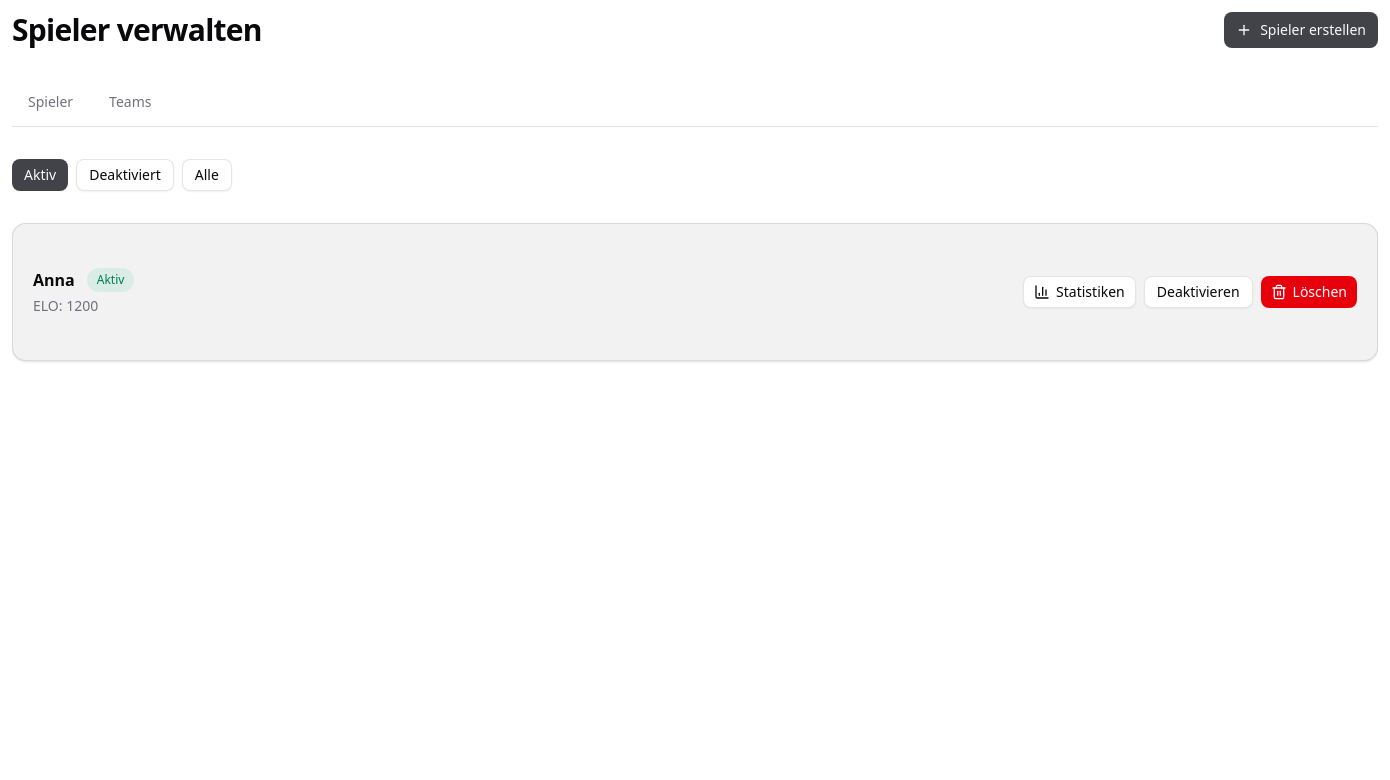
Test: PlayersPage mutations › reports mutation success separately when list refresh fails
Expected: the heading "Anna" is shown, [33, 268, 75, 292]
Click the button "Deaktivieren": coordinates (1198, 292) [1144, 276, 1253, 308]
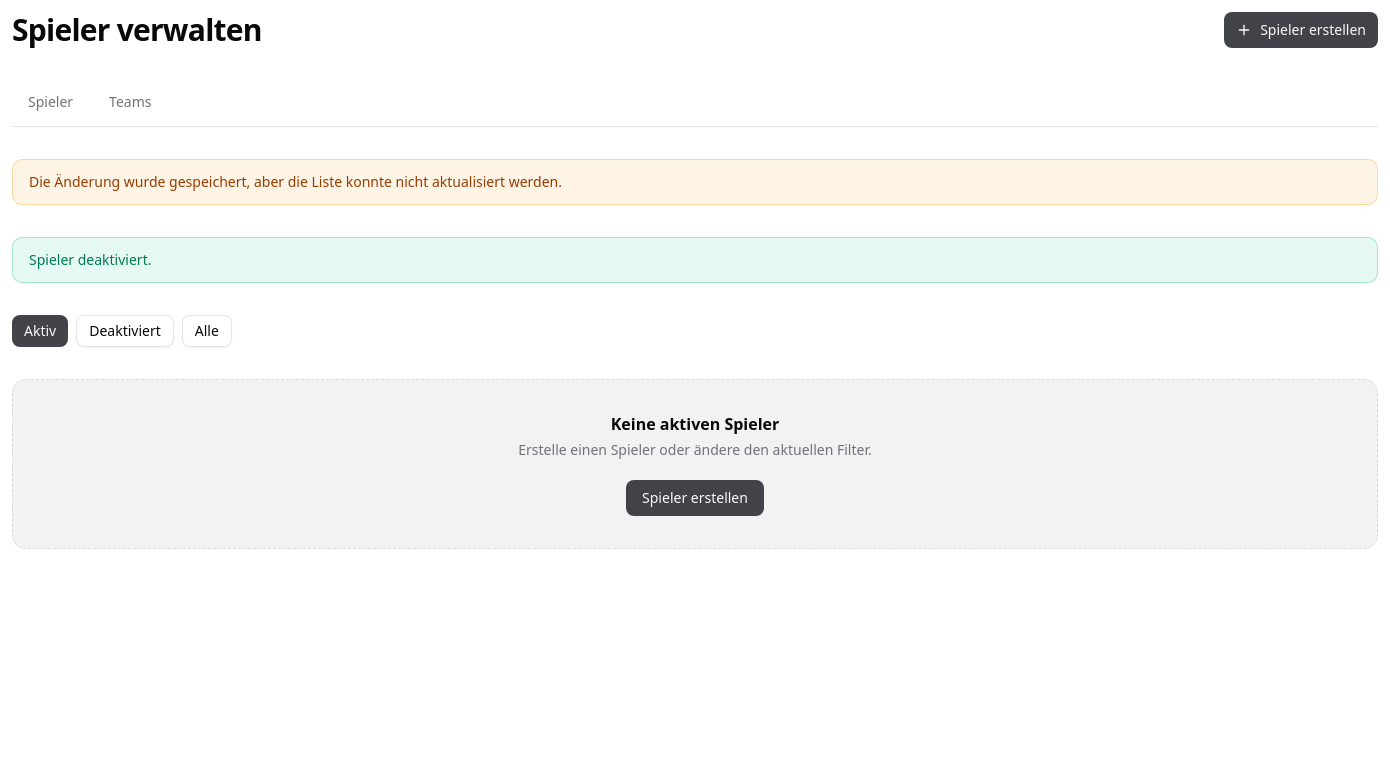
Result: the text "Spieler deaktiviert." is shown at [12, 237, 1378, 283]
Result: the text "Die Änderung wurde gespeichert" is shown at [29, 172, 562, 191]
